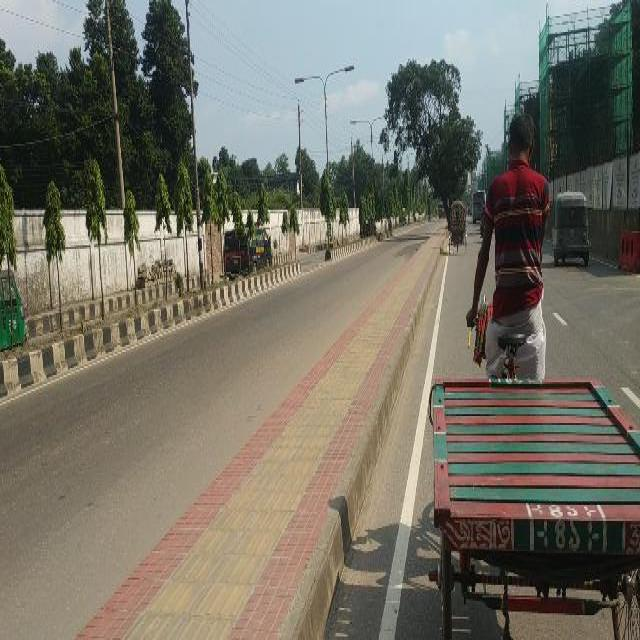vehicle: (429, 374, 640, 620), (551, 190, 591, 264), (223, 226, 274, 274), (448, 199, 469, 256), (472, 190, 487, 222)
